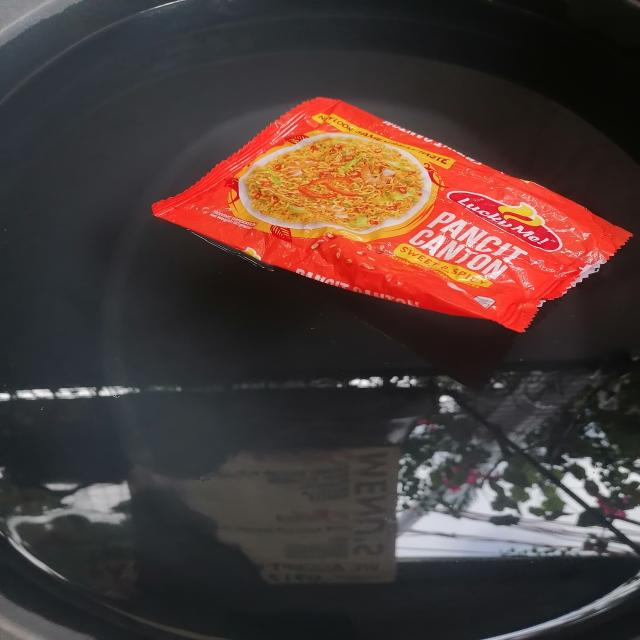Plastic Wrapper: (152, 98, 631, 332)
